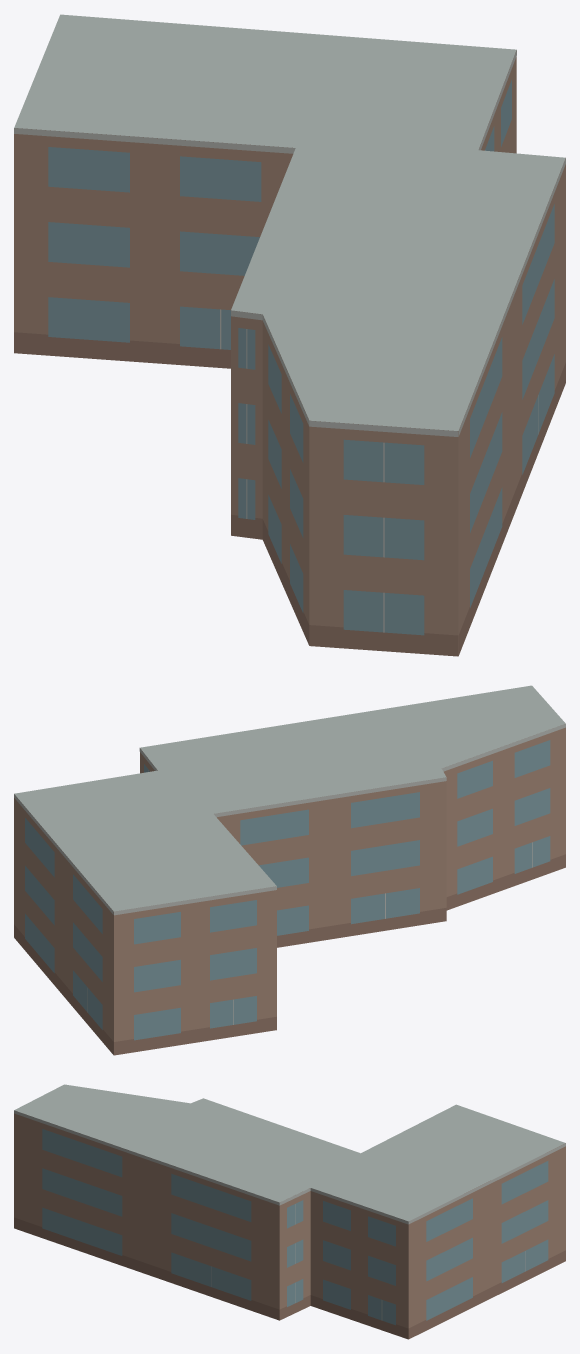
The model's file is survey-upis-32647088.glb.
3 views of the same model, one above another, from view 1: azimuth 30°, elevation 25°; view 2: azimuth 150°, elevation 25°; view 3: azimuth 270°, elevation 25° (orthographic). The views are drawn at different scales.
Parts seen in each view (by area): view 1: survey-upis-32647088.tmp; view 2: survey-upis-32647088.tmp; view 3: survey-upis-32647088.tmp.
Boxes of the visible parts, x1=… form: survey-upis-32647088.tmp: x1=14, y1=14, x2=565, y2=656; survey-upis-32647088.tmp: x1=14, y1=685, x2=565, y2=1055; survey-upis-32647088.tmp: x1=14, y1=1084, x2=565, y2=1339.
Size of the model in its own units: 22.77 by 9.15 by 38.76.
